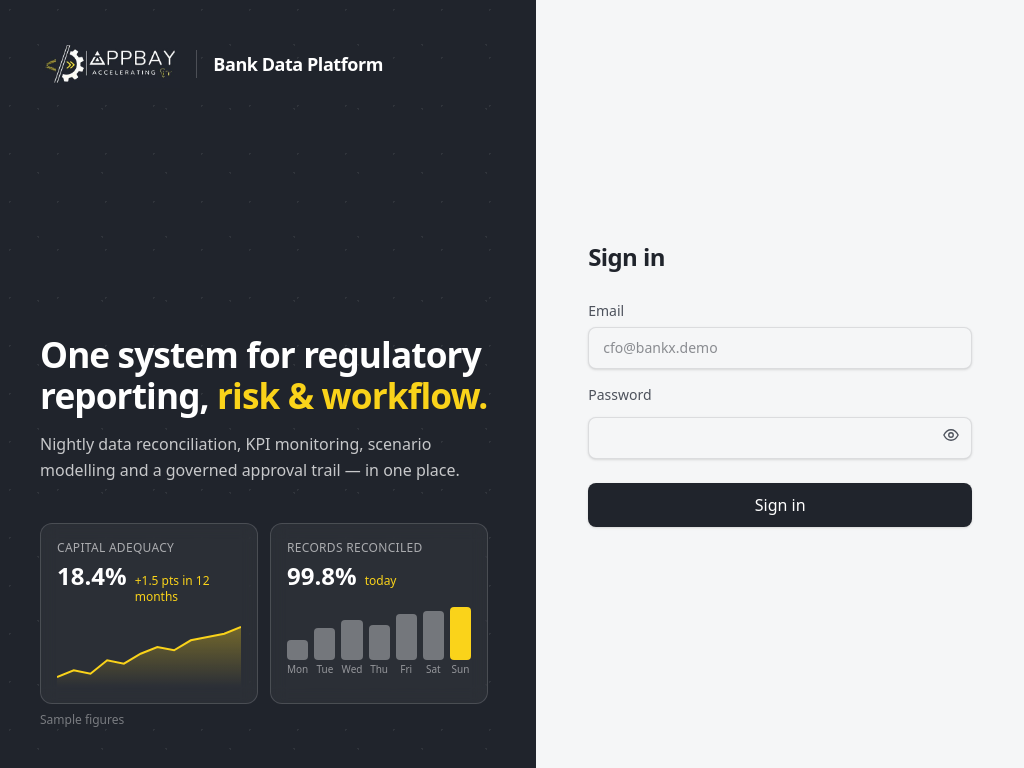
Test: sign in › shows the server's message for a wrong password and stays on the form
Type "analyst@bankx.demo" into the field labelled "Email" at [780, 348], box [588,327,972,369]
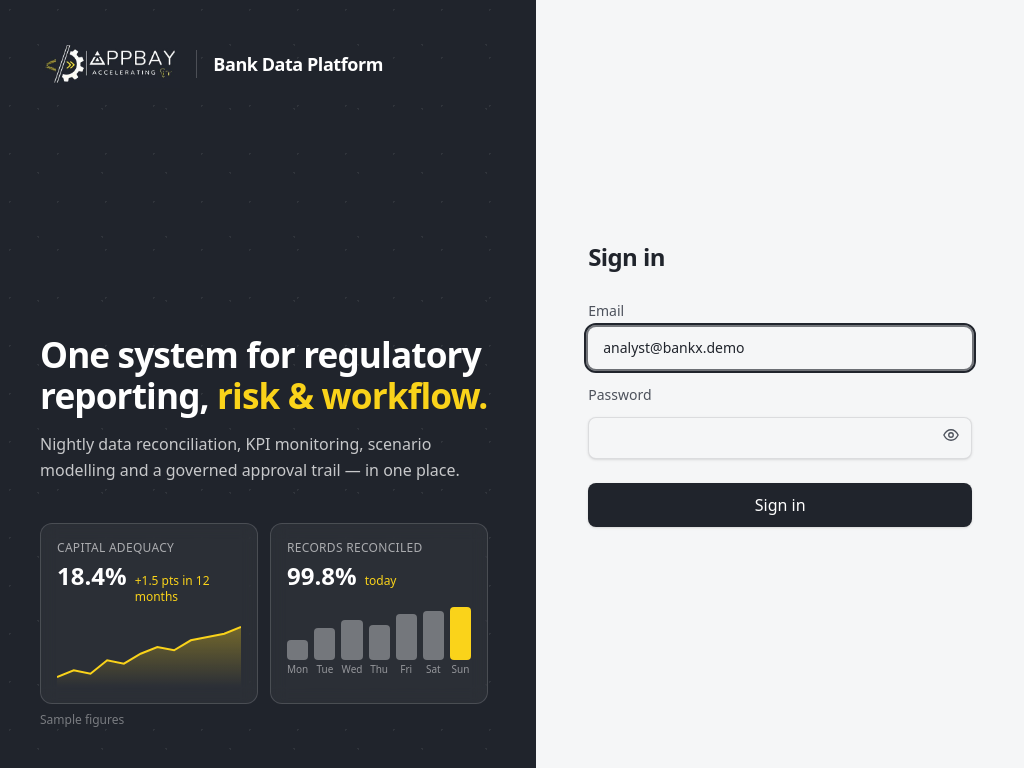
Type "wrong" into the password field labelled "Password" at [780, 438], box [588,417,972,459]
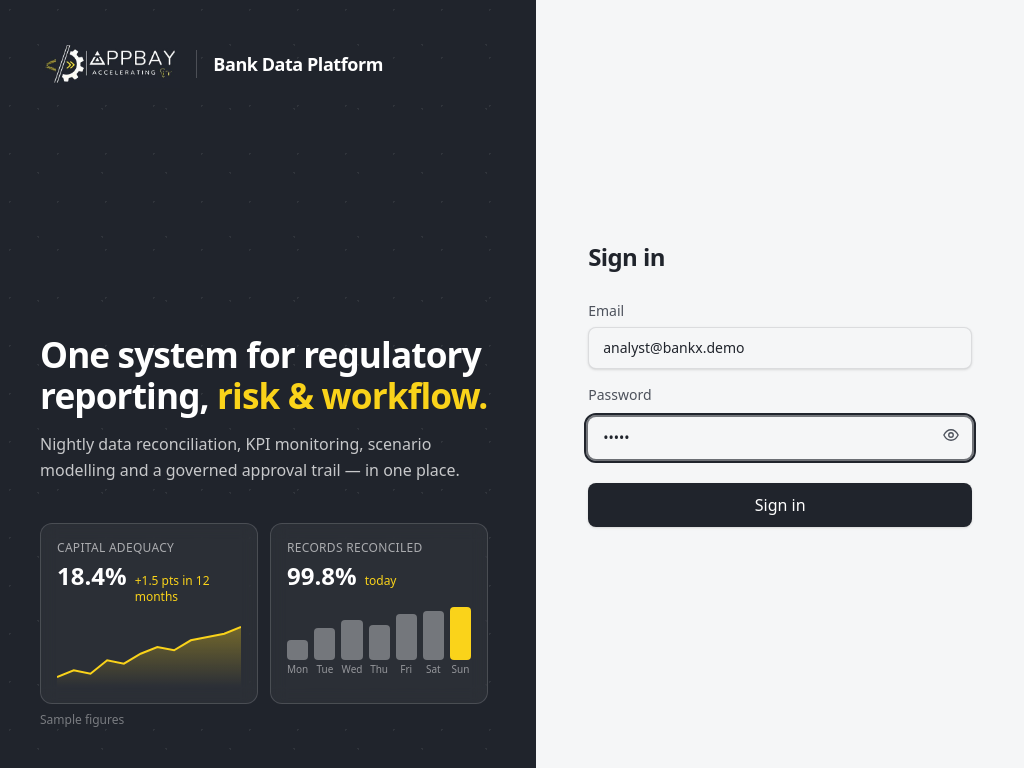
Click the button "Sign in" at [780, 505], box [588,483,972,527]
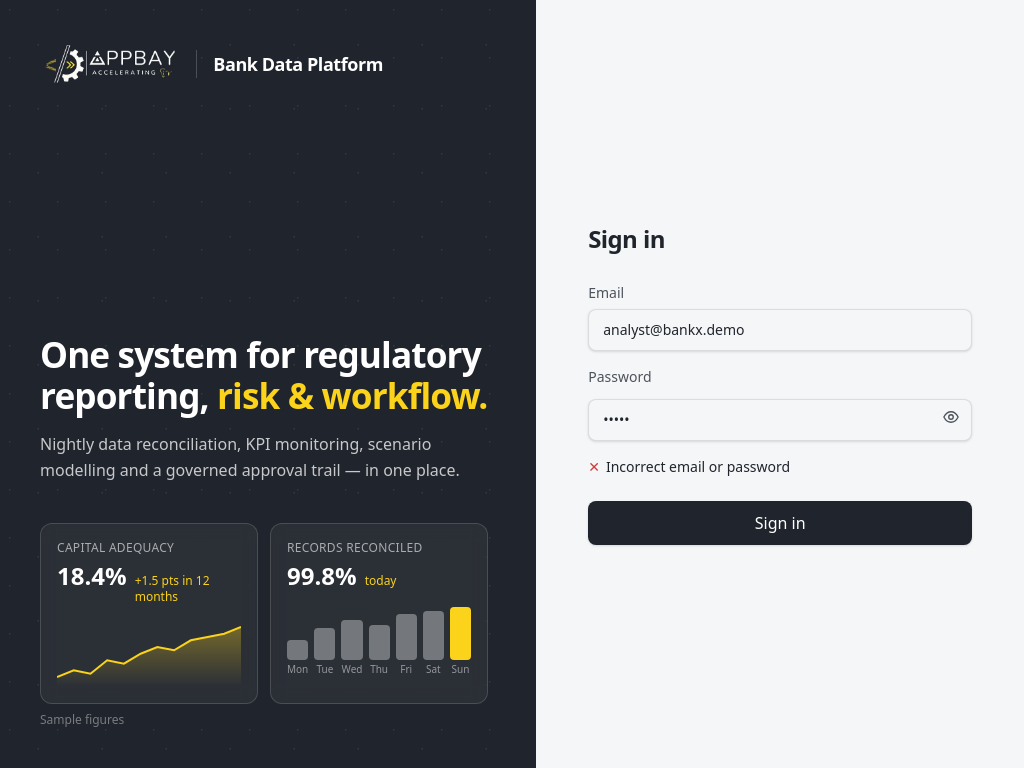
expect the message shows "Incorrect email or password": met, box [606,457,790,476]
